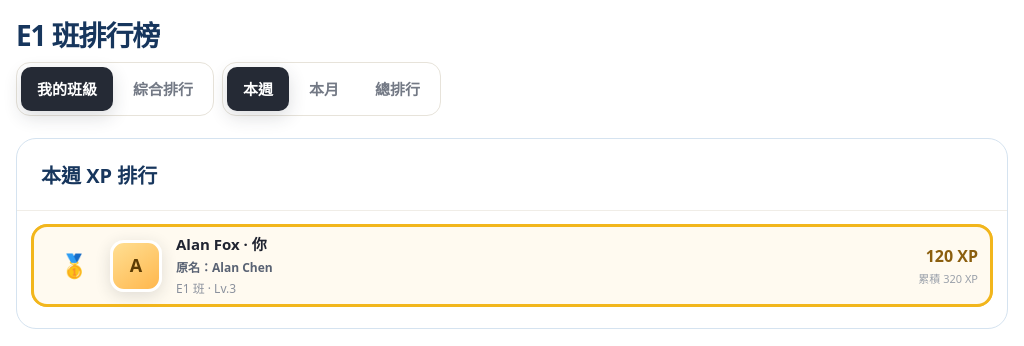
Test: LearningLeaderboard › 顯示暱稱與原名，並可從自己的班級切換到綜合排行
Expected: the heading "E1 班排行榜" is shown, [16, 16, 159, 54]
Expected: the text "原名：Alan Chen" is shown, [176, 259, 273, 276]
Click the button "綜合排行": (163, 89) [117, 67, 209, 111]
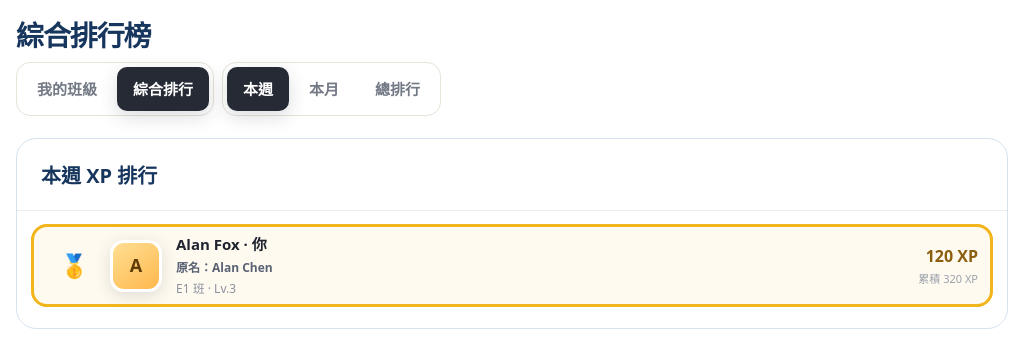
Expected: the heading "綜合排行榜" is shown, [16, 16, 150, 54]
